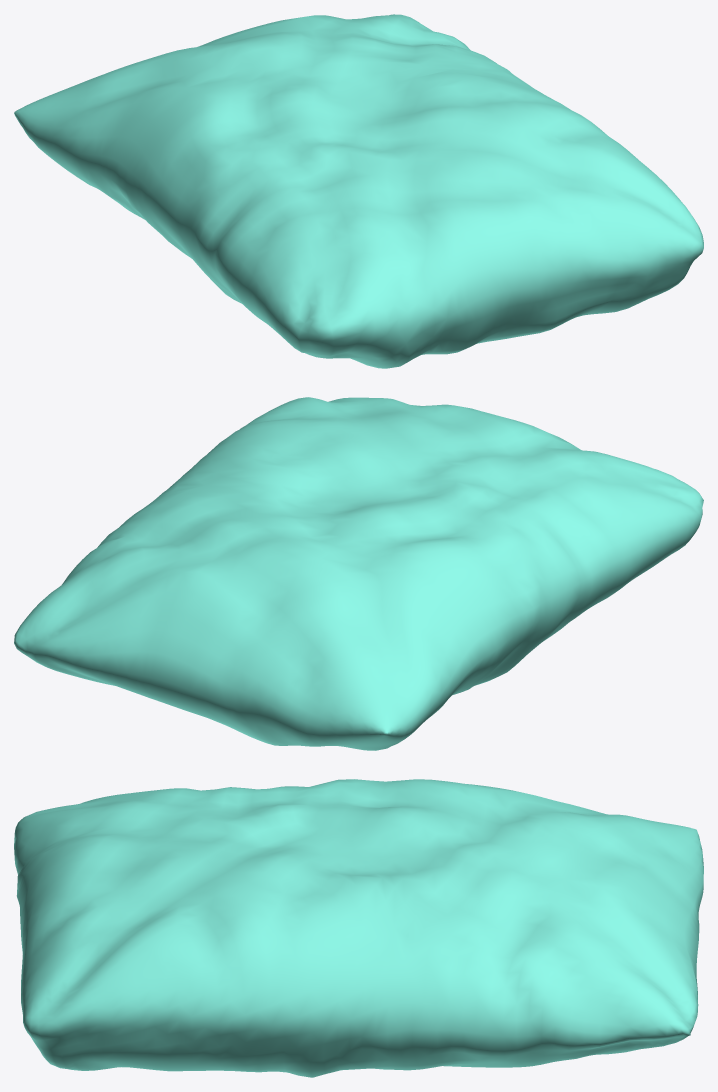
The model's file is SM_pillow_low.fbx.
3 renders of one model, top to bottom at view 1: azimuth 30°, elevation 25°; view 2: azimuth 150°, elevation 25°; view 3: azimuth 270°, elevation 25°, orthographic. The views are drawn at different scales.
Parts seen in each view (by area): view 1: PM3D_Cylinder3D2; view 2: PM3D_Cylinder3D2; view 3: PM3D_Cylinder3D2.
Boxes of the visible parts, x1,y1,x2,y2 form: PM3D_Cylinder3D2: (14,14,703,368); PM3D_Cylinder3D2: (14,397,703,750); PM3D_Cylinder3D2: (14,779,703,1077).
Size of the model in its own units: 69.81 by 27.35 by 93.74.
